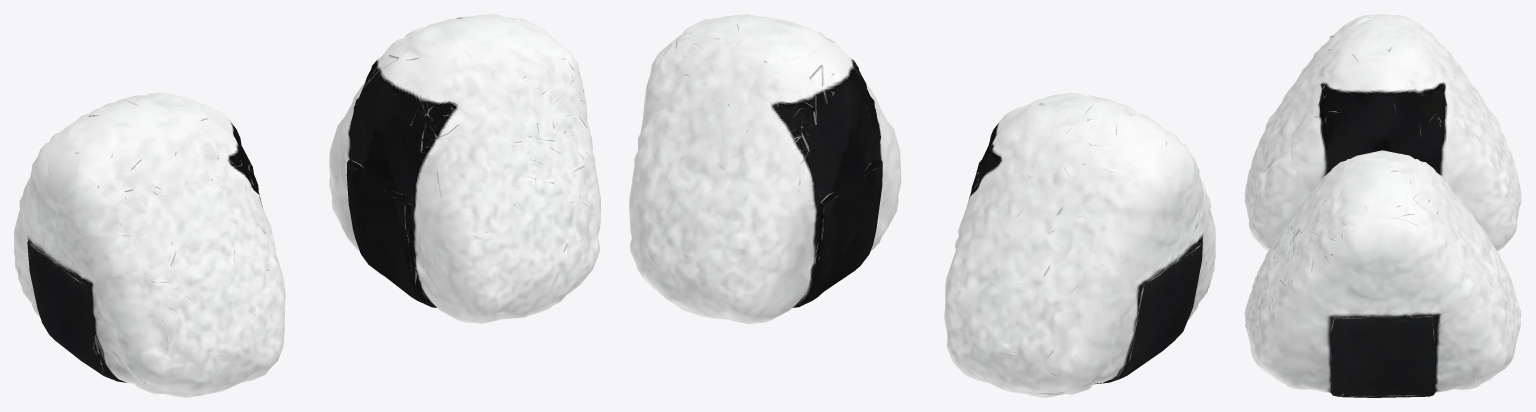
Rendered from white-pebble.glb.
3 renders of one model, left to right at view 1: azimuth 30°, elevation 25°; view 2: azimuth 150°, elevation 25°; view 3: azimuth 270°, elevation 25°, orthographic. The views are drawn at different scales.
Visible parts, largest first — view 1: Mesh_0; view 2: Mesh_0; view 3: Mesh_0.
Part boxes in pixels (x1,y1,x2,y2): Mesh_0: (14, 14, 600, 397); Mesh_0: (629, 14, 1215, 397); Mesh_0: (1244, 14, 1521, 397).
Size of the model in its own units: 1.91 by 0.9158 by 1.03.
Materials: 1 (1 with a texture image).
